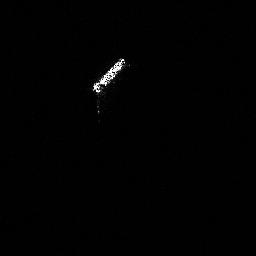ship: (89, 55, 127, 95)
